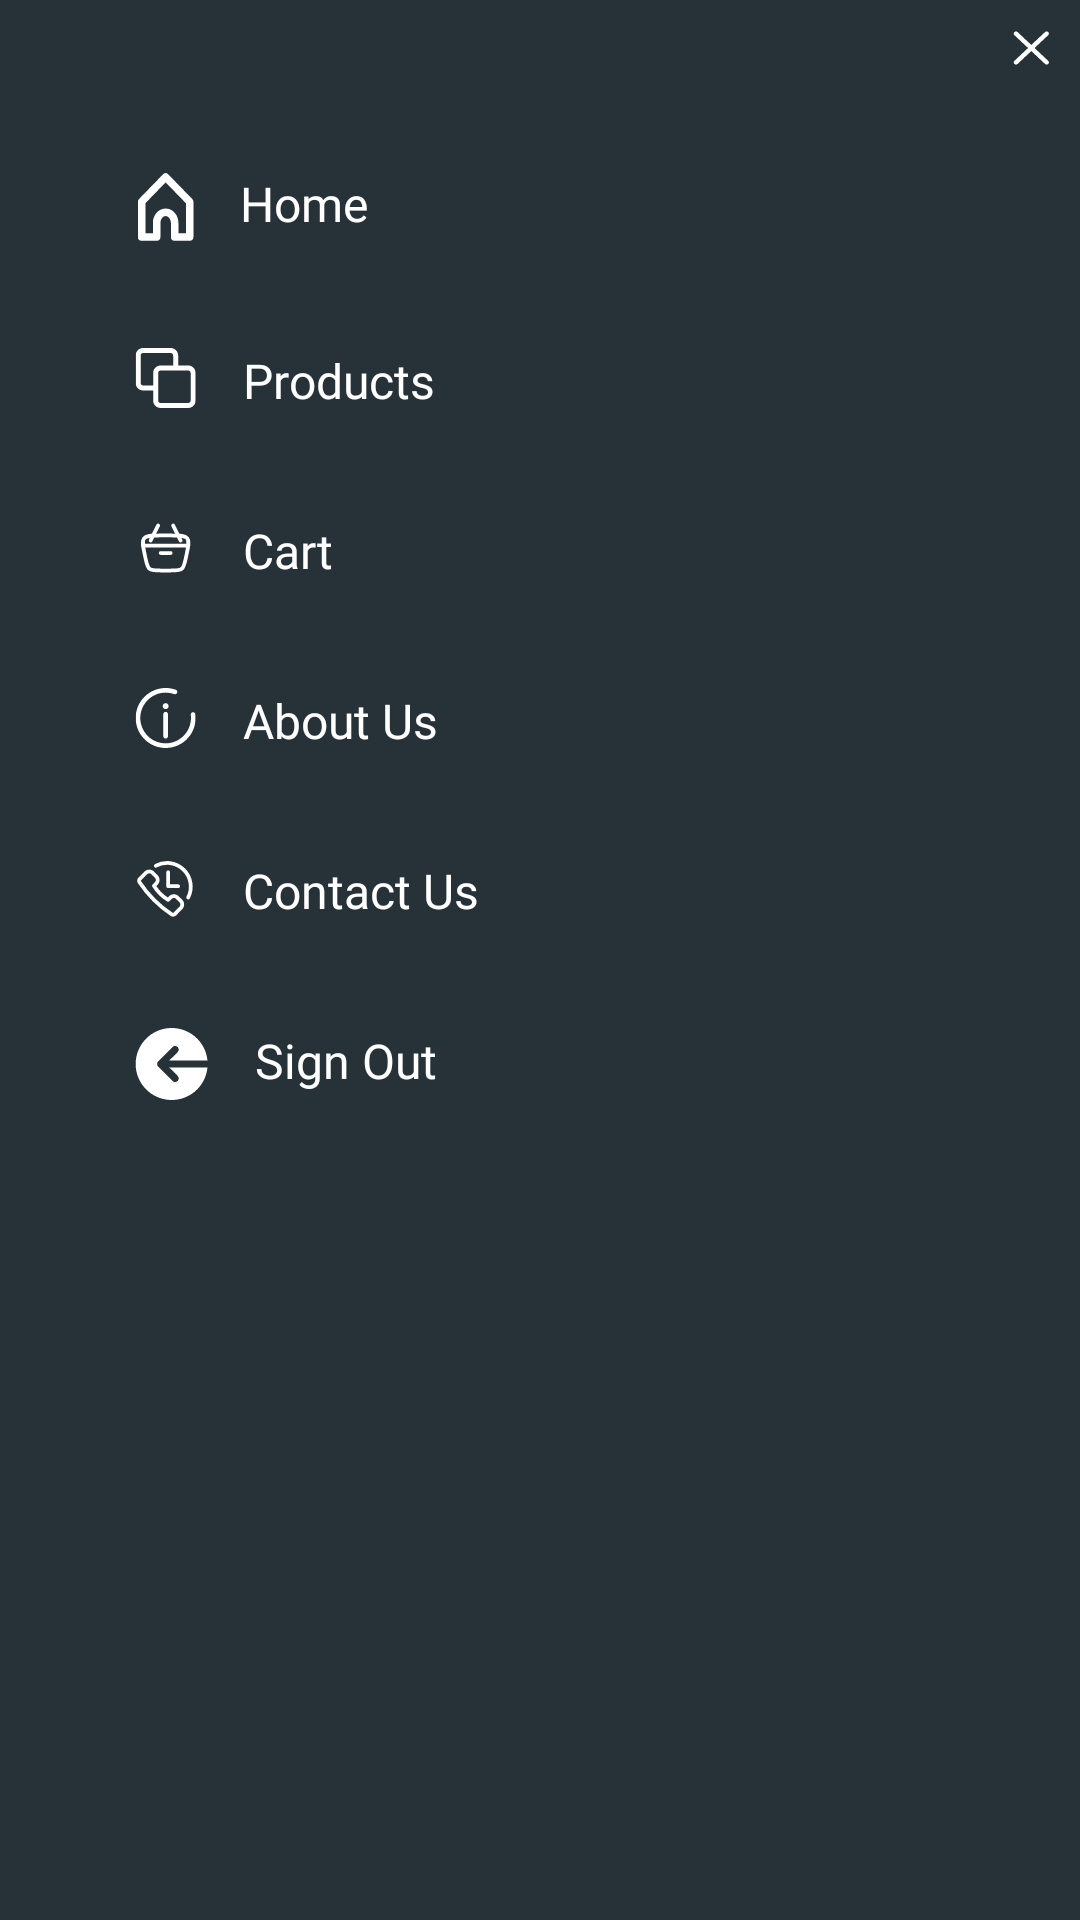

Where to tap for icons on this 1080x1920 app screen, as [x,y]:
close: [1031,48]
